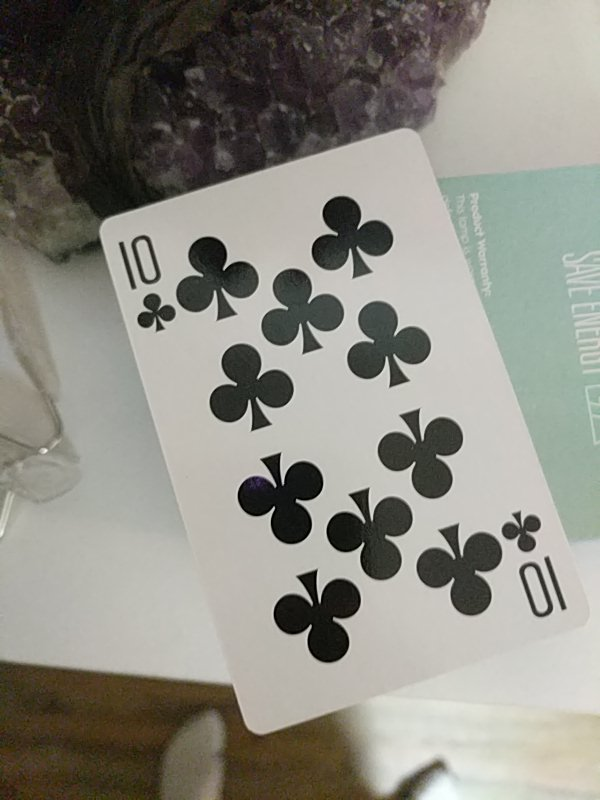Clubs: (100, 125, 591, 737)
